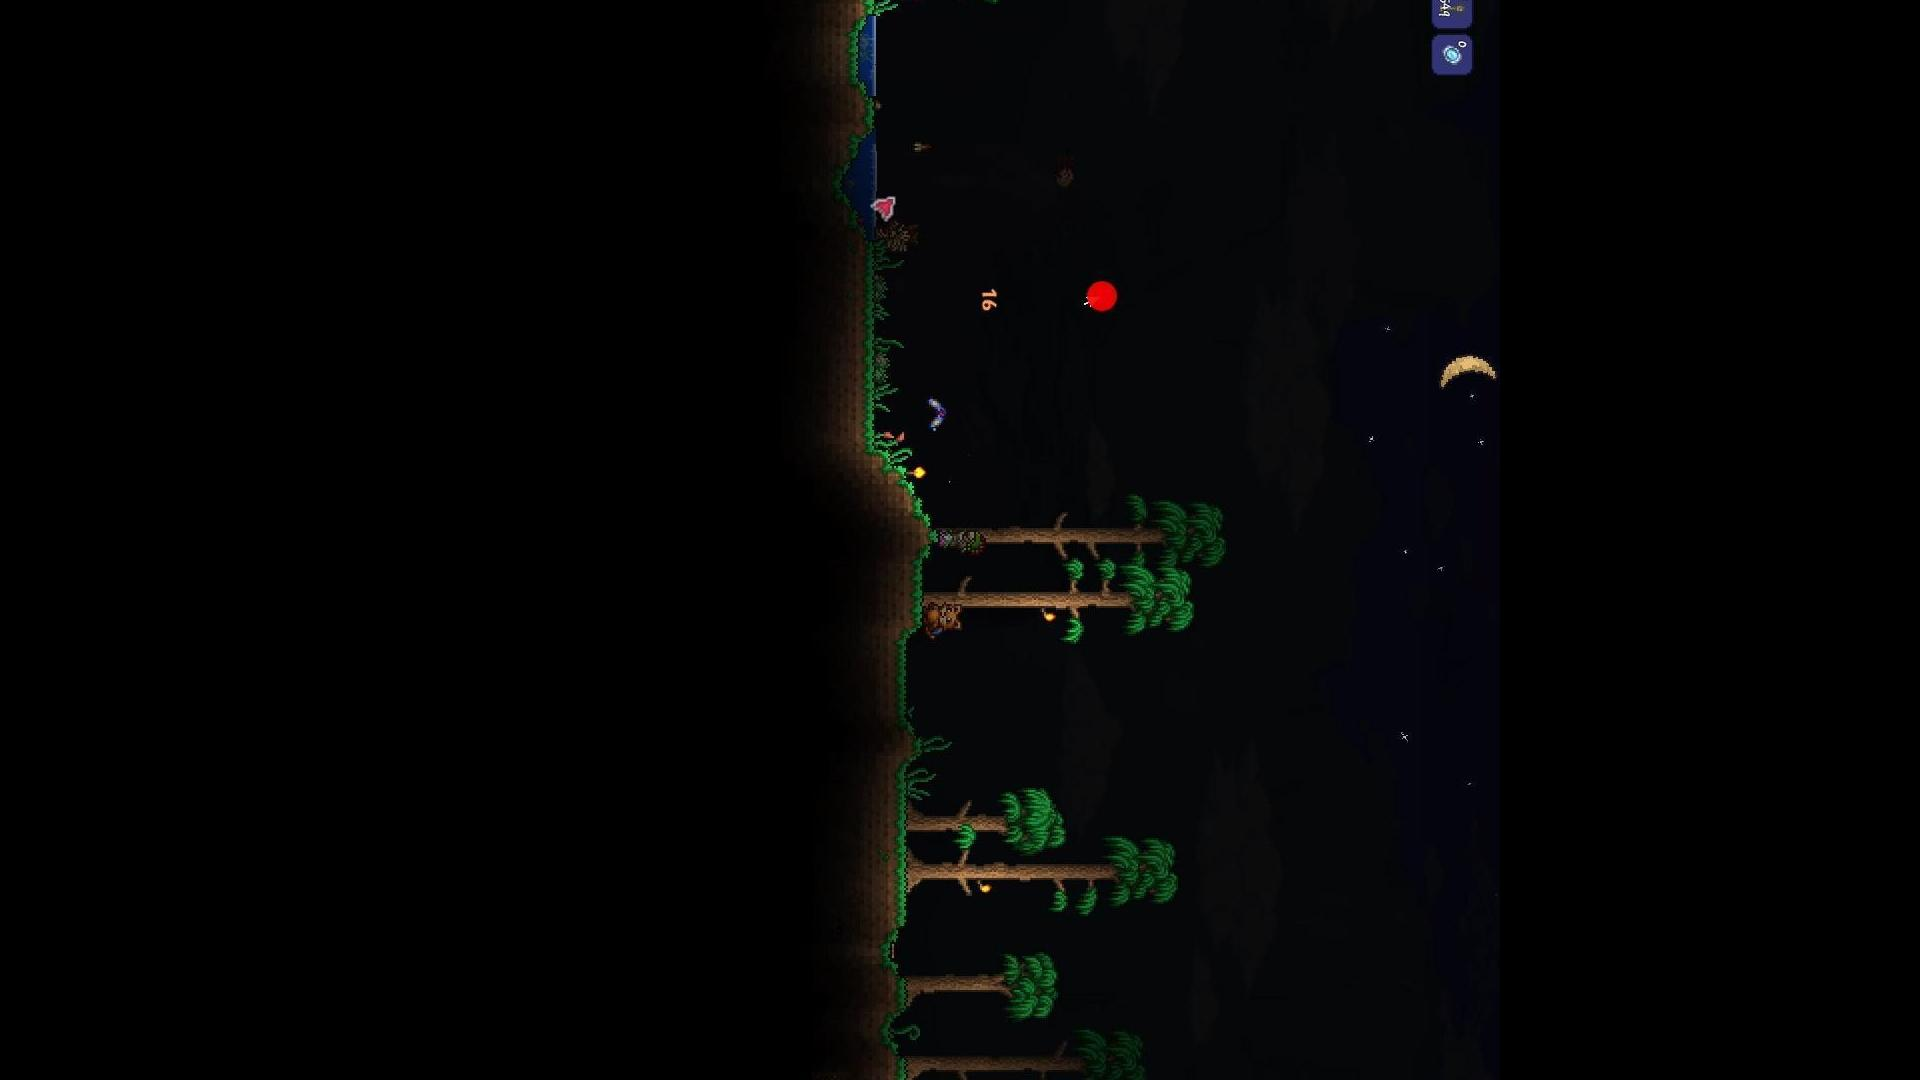torchT: (1023, 600, 1059, 636), (972, 870, 1001, 907), (901, 0, 936, 11)
tree: (874, 484, 1241, 587), (903, 574, 1218, 657), (886, 840, 1188, 916), (880, 952, 1083, 1018), (885, 781, 1055, 851)
zombie: (874, 211, 926, 255)
